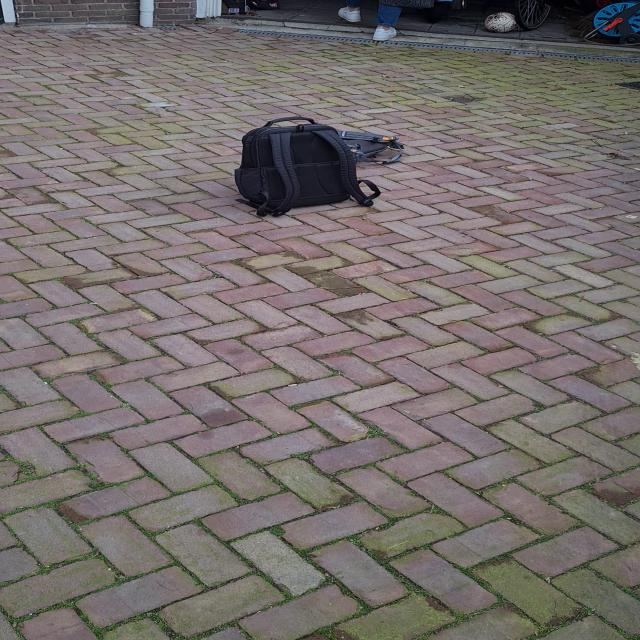backpack: (226, 115, 373, 216), (332, 126, 396, 170)
